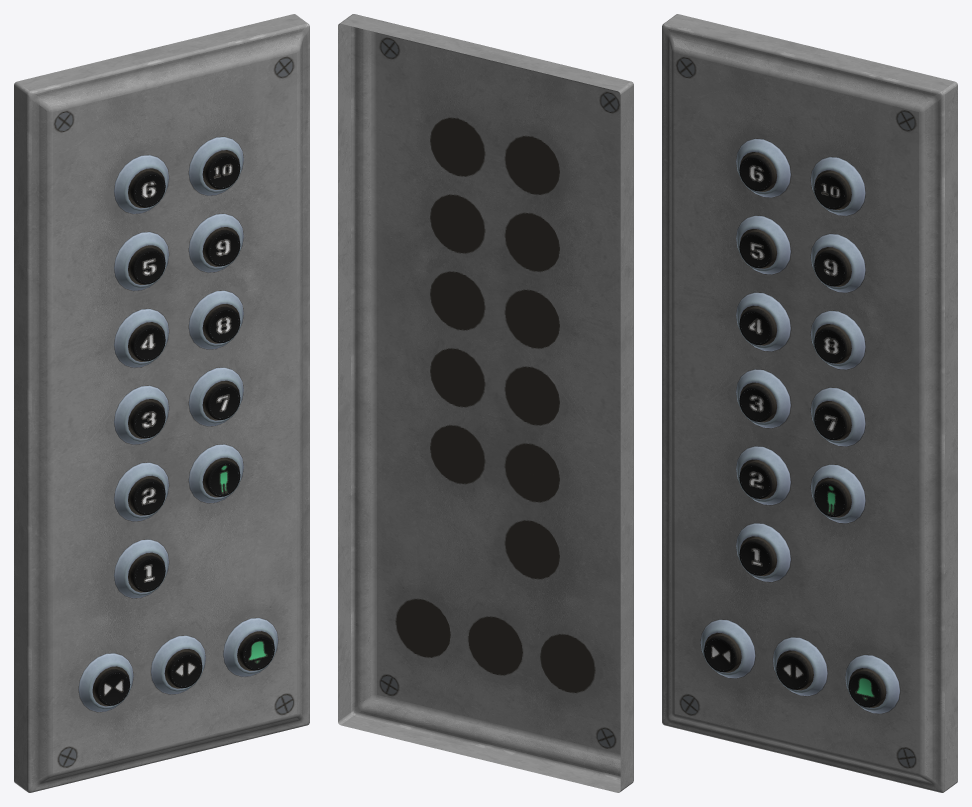
Rendered from elevator___elevator_key_7_mb.glb.
3 views of the same model, side by side, from view 1: azimuth 30°, elevation 25°; view 2: azimuth 150°, elevation 25°; view 3: azimuth 330°, elevation 25° (orthographic).
Visible parts, largest first — view 1: 01_01_0; view 2: 01_01_0; view 3: 01_01_0.
Part boxes in pixels (x1,y1,x2,y2): 01_01_0: [14, 14, 309, 792]; 01_01_0: [338, 14, 633, 792]; 01_01_0: [662, 14, 957, 792].
Bounding box in the file's own units: 0.2161 × 0.5129 × 0.037.
1 material, 1 textured.
